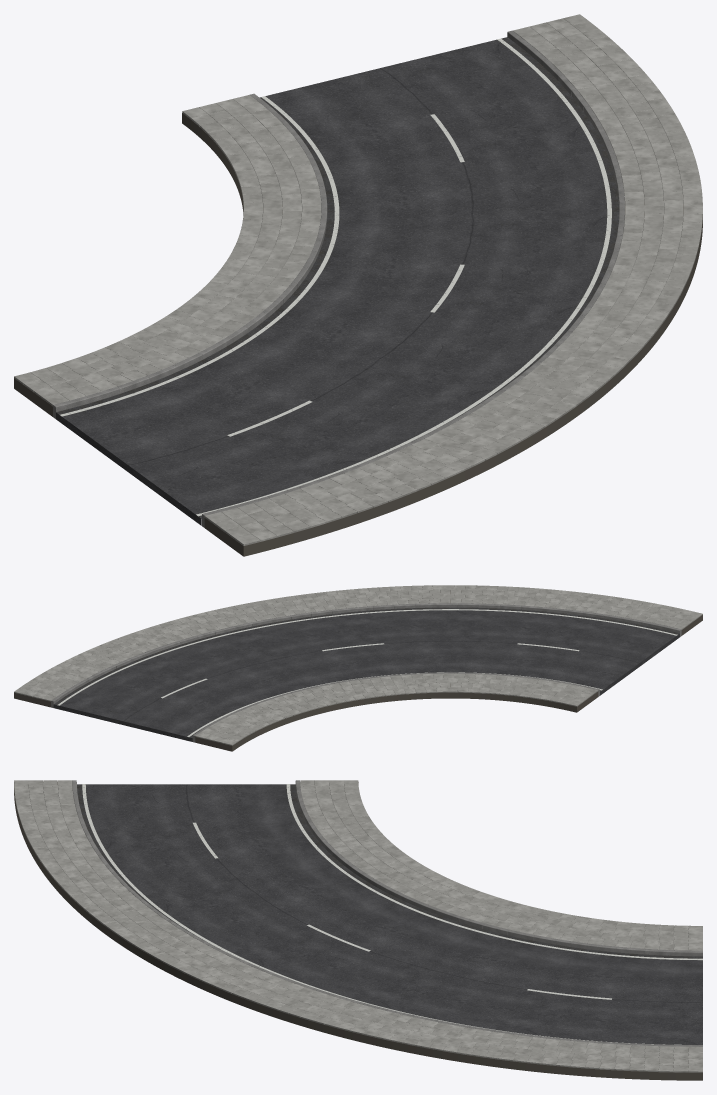
The model's file is road-curve-90.glb.
3 views of the same model, one above another, from view 1: azimuth 30°, elevation 25°; view 2: azimuth 150°, elevation 25°; view 3: azimuth 270°, elevation 25° (orthographic). The views are drawn at different scales.
Visible parts, largest first — view 1: road-curve-90_asphalt, road-curve-90_paving_slabs, road-curve-90_curb, road-curve-90_bedding, road-curve-90_road_marking; view 2: road-curve-90_asphalt, road-curve-90_paving_slabs, road-curve-90_curb, road-curve-90_bedding, road-curve-90_road_marking; view 3: road-curve-90_asphalt, road-curve-90_paving_slabs, road-curve-90_bedding, road-curve-90_curb, road-curve-90_road_marking.
Boxes of the visible parts, box(x1,y1,x2,y2) form: road-curve-90_asphalt: box(56, 37, 618, 525); road-curve-90_paving_slabs: box(14, 14, 702, 545); road-curve-90_curb: box(53, 30, 624, 527); road-curve-90_bedding: box(14, 113, 702, 556); road-curve-90_road_marking: box(60, 38, 611, 516); road-curve-90_asphalt: box(53, 607, 679, 741); road-curve-90_paving_slabs: box(14, 585, 702, 745); road-curve-90_curb: box(51, 603, 681, 742); road-curve-90_bedding: box(14, 591, 702, 751); road-curve-90_road_marking: box(57, 609, 677, 736); road-curve-90_asphalt: box(77, 784, 702, 1044); road-curve-90_paving_slabs: box(14, 780, 702, 1072); road-curve-90_bedding: box(14, 782, 702, 1080); road-curve-90_curb: box(72, 780, 702, 1046); road-curve-90_road_marking: box(82, 784, 702, 1044).
Bounding box in the file's own units: 23.6 × 0.35 × 23.6.
Materials: 5 (4 with a texture image).
